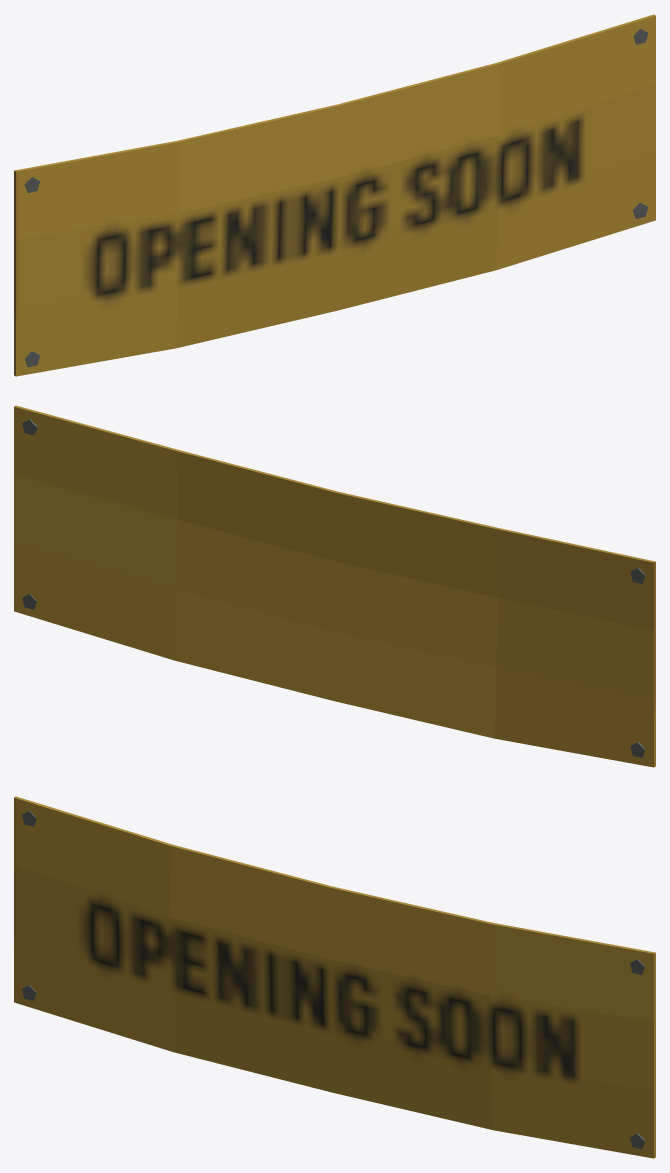
The model's file is SM_Props_Sign_Shop_OpeningSoon.fbx.
The picture shows the model from 3 angles, top to bottom: view 1: azimuth 30°, elevation 25°; view 2: azimuth 150°, elevation 25°; view 3: azimuth 330°, elevation 25°; orthographic projection.
Visible parts, largest first — view 1: SM_Props_Sign_Shop_OpeningSoon; view 2: SM_Props_Sign_Shop_OpeningSoon; view 3: SM_Props_Sign_Shop_OpeningSoon.
Boxes of the visible parts, x1=… form: SM_Props_Sign_Shop_OpeningSoon: x1=14, y1=14, x2=655, y2=376; SM_Props_Sign_Shop_OpeningSoon: x1=14, y1=405, x2=655, y2=767; SM_Props_Sign_Shop_OpeningSoon: x1=14, y1=796, x2=655, y2=1158.
Bounding box in the file's own units: 200 × 64.72 × 3.69.
